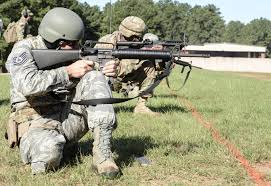gun: (31, 39, 211, 87)
